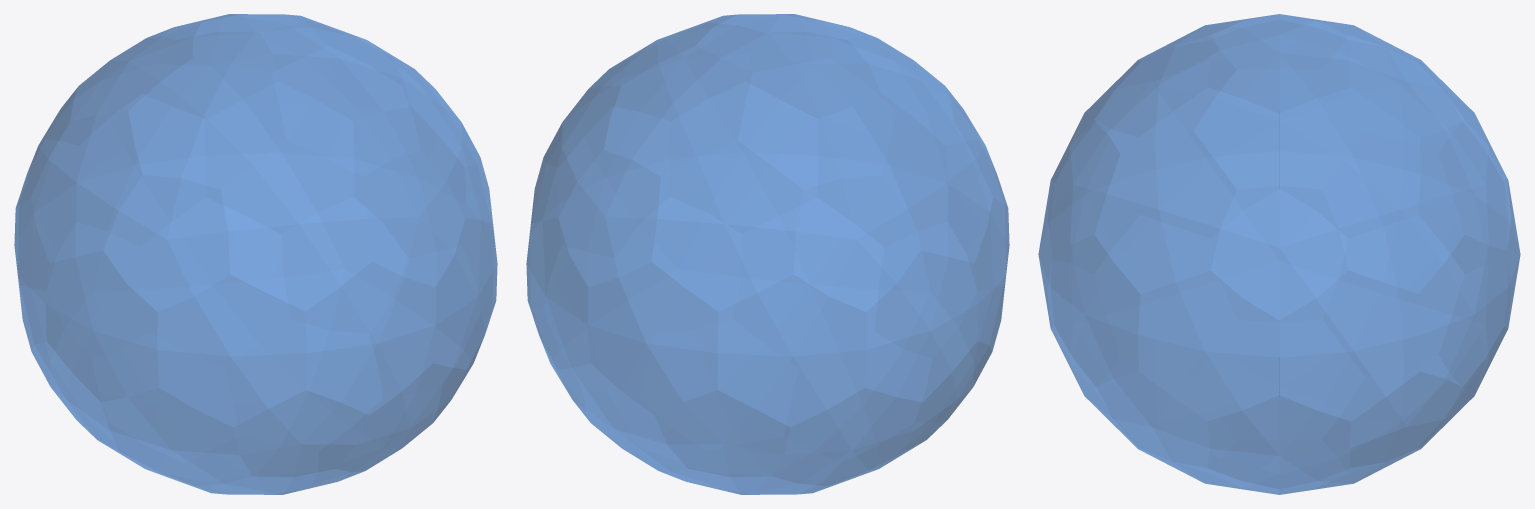
The model's file is universalElbow.fbx.
The picture shows the model from 3 angles, left to right: view 1: azimuth 30°, elevation 25°; view 2: azimuth 150°, elevation 25°; view 3: azimuth 270°, elevation 25°; orthographic projection.
Visible parts, largest first — view 1: Icosphere.001; view 2: Icosphere.001; view 3: Icosphere.001.
Part boxes in pixels (x1,y1,x2,y2): Icosphere.001: (14, 14, 497, 494); Icosphere.001: (526, 14, 1009, 494); Icosphere.001: (1038, 14, 1520, 494).
Bounding box in the file's own units: 30.47 × 30.71 × 30.53.
